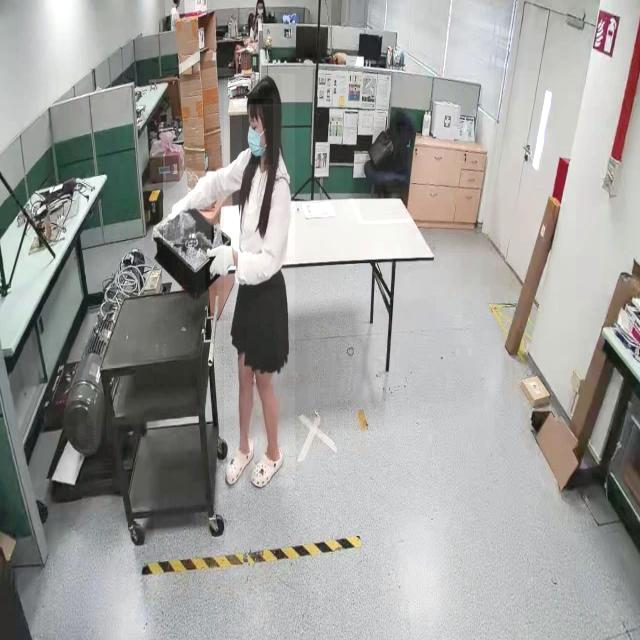face_mask: (242, 99, 273, 164)
hand_glove: (162, 171, 212, 245), (205, 230, 235, 292)
head_nohelmet: (246, 75, 282, 105)
person: (223, 74, 295, 487)
